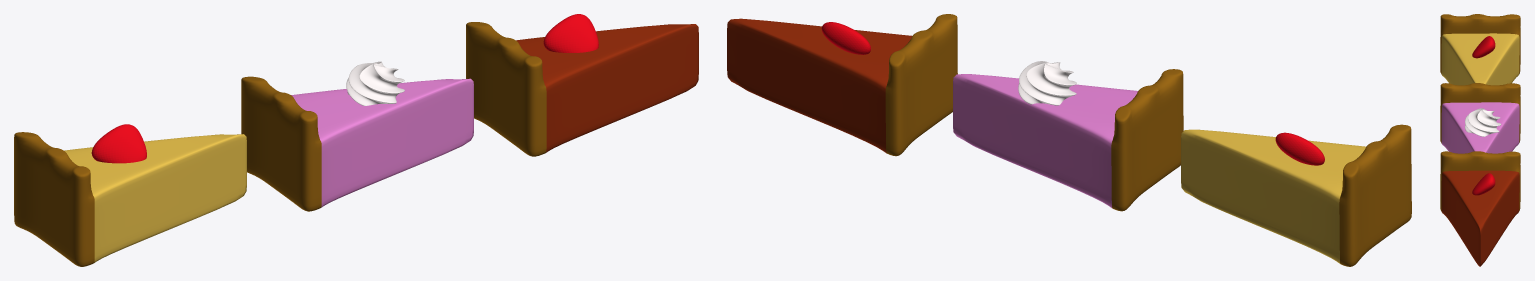
File: obstaculo_pular.fbx
The picture shows the model from 3 angles, left to right: view 1: azimuth 30°, elevation 25°; view 2: azimuth 150°, elevation 25°; view 3: azimuth 270°, elevation 25°; orthographic projection. The views are drawn at different scales.
Visible parts, largest first — view 1: bolo; view 2: bolo; view 3: bolo.
Boxes of the visible parts, x1,y1,x2,y2 form: bolo: (14,14,698,266); bolo: (727,14,1411,266); bolo: (1440,14,1520,266).
Size of the model in its own units: 744 by 111 by 127.
